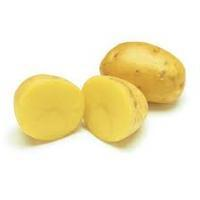biodegradable: (98, 40, 186, 104), (13, 72, 86, 142), (80, 75, 149, 142)
